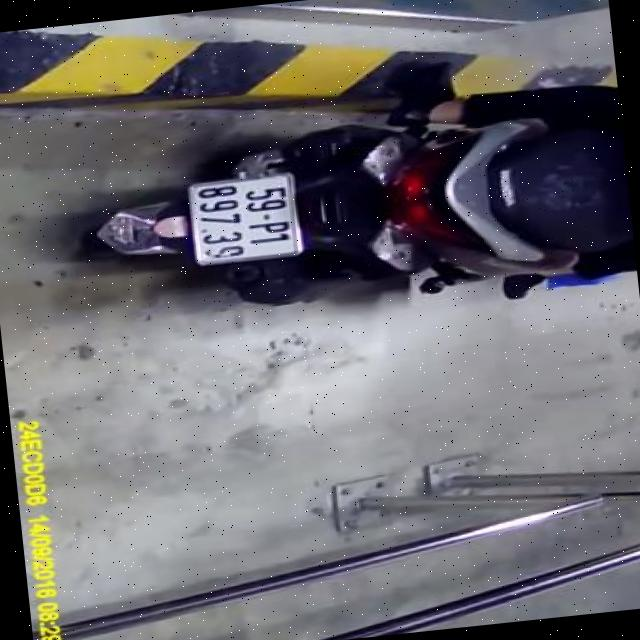license_plate: (174, 164, 308, 280)
